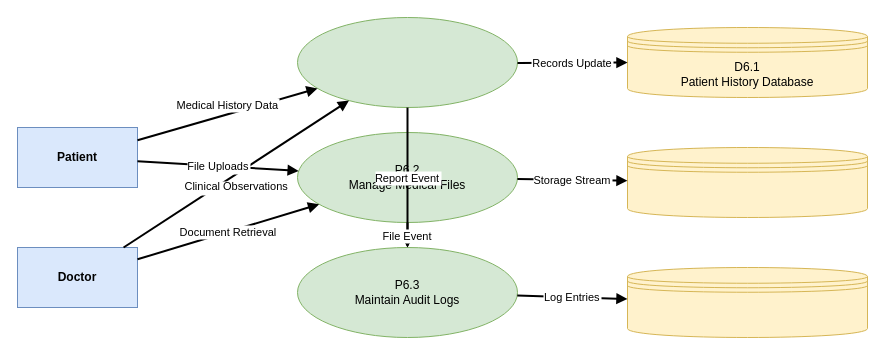
Some shapes in this 885 by 355 pixel diagram are drawn without their labels. Here are the shapes that lost their labels. From the top down, the box of each, then its label:
(296, 16, 518, 108): P6.1 Store Medical Reports
(626, 146, 868, 218): D6.2 Medical Files Storage
(626, 266, 868, 338): D6.3 Audit Logs
